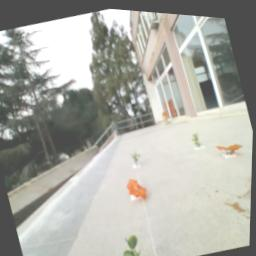herb: (116, 227, 155, 256), (191, 128, 205, 147), (131, 148, 145, 165)
wild: (126, 172, 152, 202), (216, 135, 247, 155)
